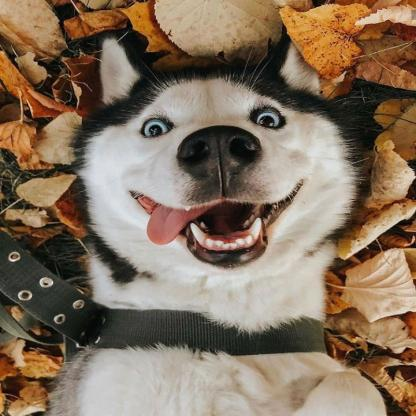husky: (56, 32, 388, 416)
